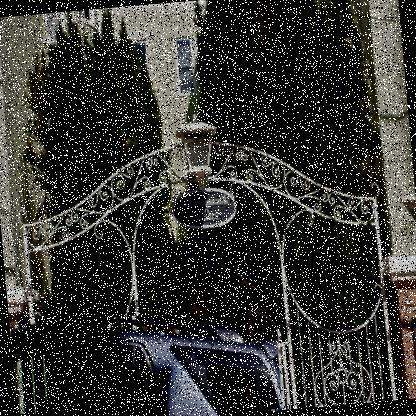Car: (10, 303, 283, 415)
